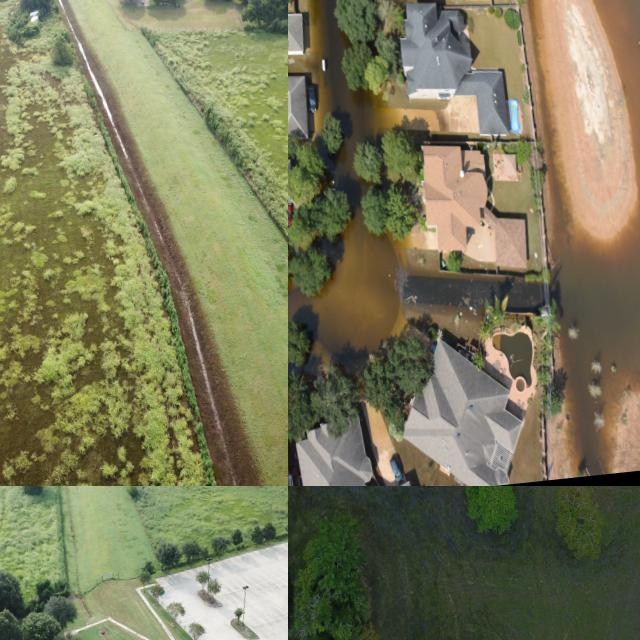fire: (525, 0, 640, 478), (288, 0, 421, 380)
